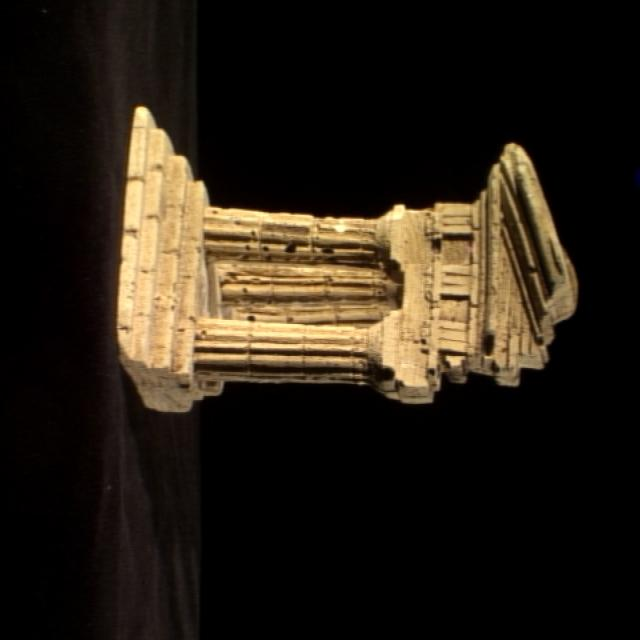Instance-Segmentation: (117, 107, 577, 411)
